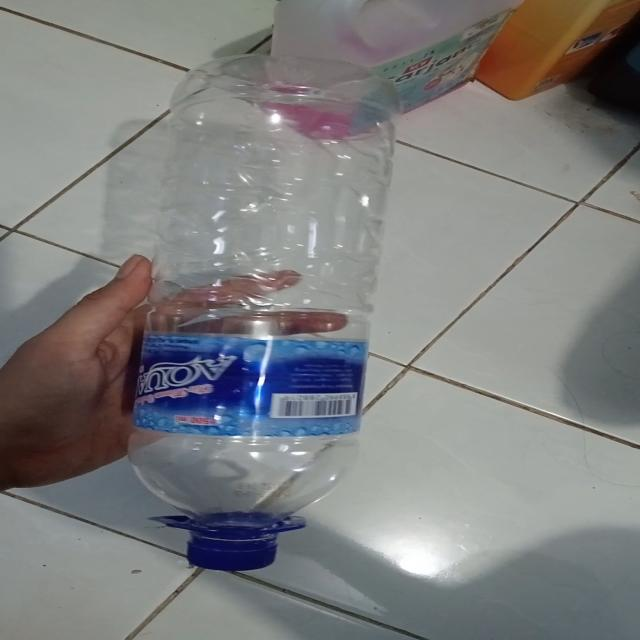Botol bekas: (121, 52, 395, 557)
